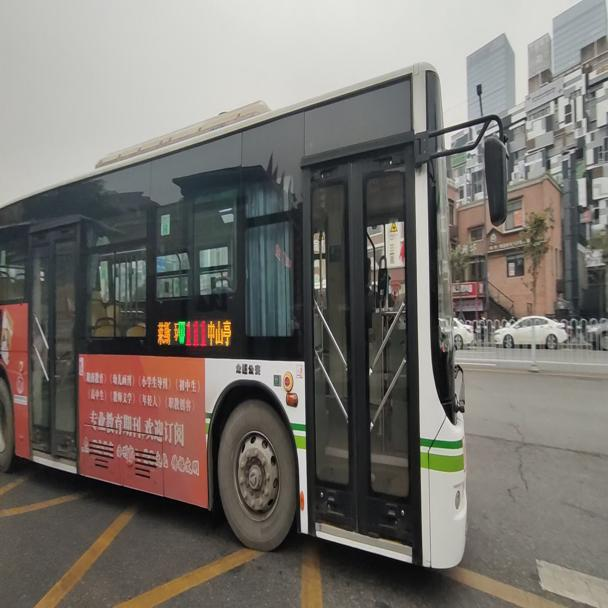bus: (1, 60, 506, 571)
screen: (183, 316, 208, 347)
